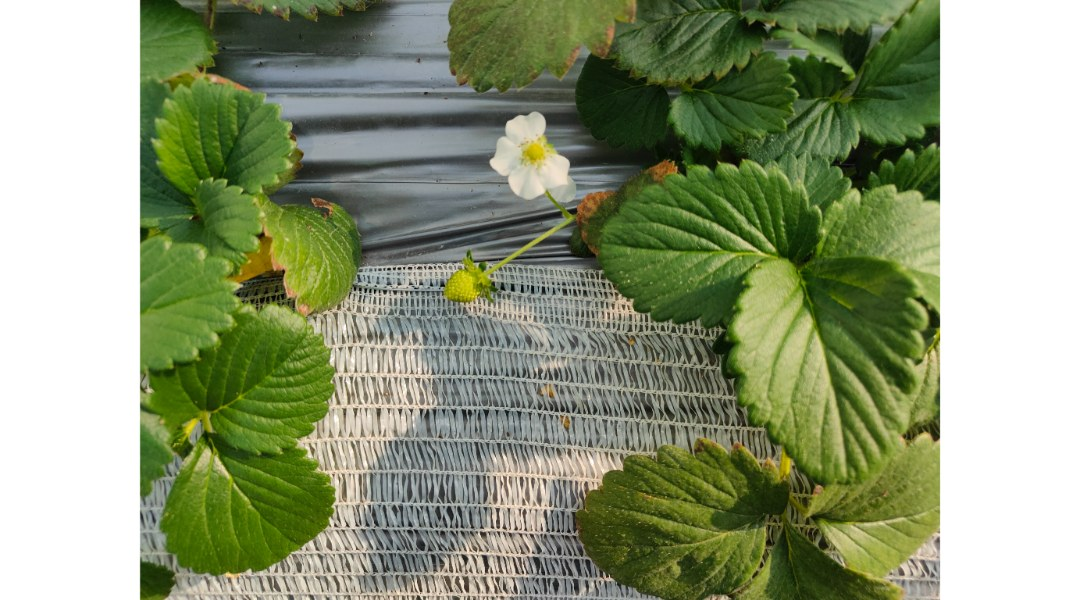berry: (437, 246, 499, 314)
flower: (489, 108, 577, 211)
strain: (477, 220, 566, 286)
